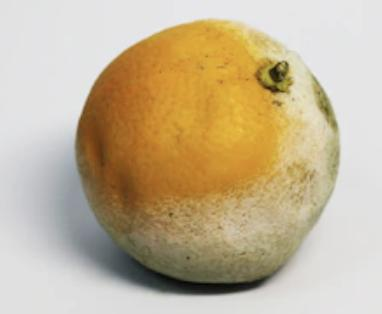Orange Rotten: (63, 19, 358, 307)
